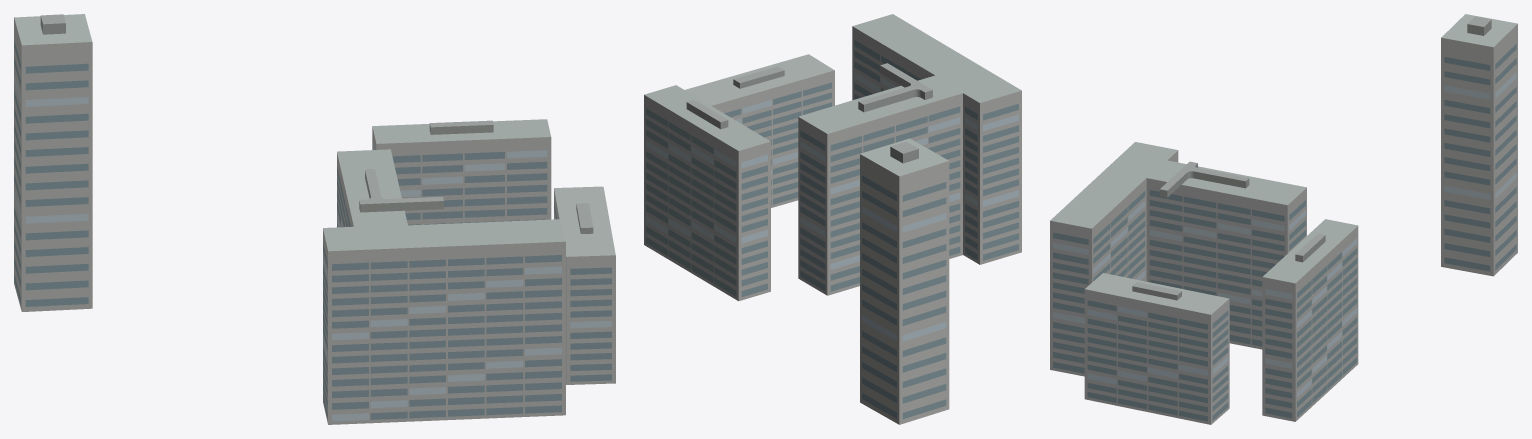
The model's file is apt-a15770101.glb.
3 renders of one model, left to right at view 1: azimuth 30°, elevation 25°; view 2: azimuth 150°, elevation 25°; view 3: azimuth 270°, elevation 25°, orthographic. The views are drawn at different scales.
Visible parts, largest first — view 1: apt-a15770101; view 2: apt-a15770101; view 3: apt-a15770101.
Part boxes in pixels (x1,y1,x2,y2): apt-a15770101: [14, 14, 615, 424]; apt-a15770101: [644, 14, 1021, 424]; apt-a15770101: [1050, 14, 1517, 424].
Bounding box in the file's own units: 105 × 64 × 114.
